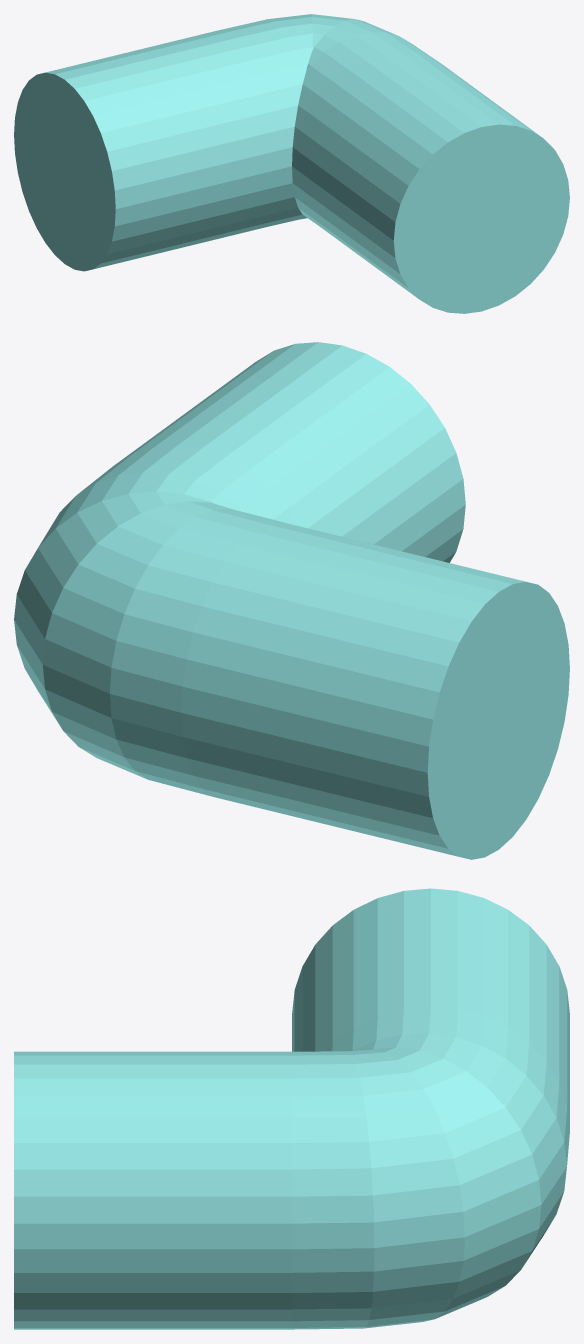
Rendered from Reactor-pipe4.glb.
3 views of the same model, one above another, from view 1: azimuth 30°, elevation 25°; view 2: azimuth 150°, elevation 25°; view 3: azimuth 270°, elevation 25° (orthographic). The views are drawn at different scales.
Visible parts, largest first — view 1: Cylinder.001; view 2: Cylinder.001; view 3: Cylinder.001.
Part boxes in pixels (x1,y1,x2,y2): Cylinder.001: [14, 14, 569, 313]; Cylinder.001: [14, 342, 569, 859]; Cylinder.001: [14, 888, 569, 1329].
Size of the model in its own units: 4 by 2 by 4.
